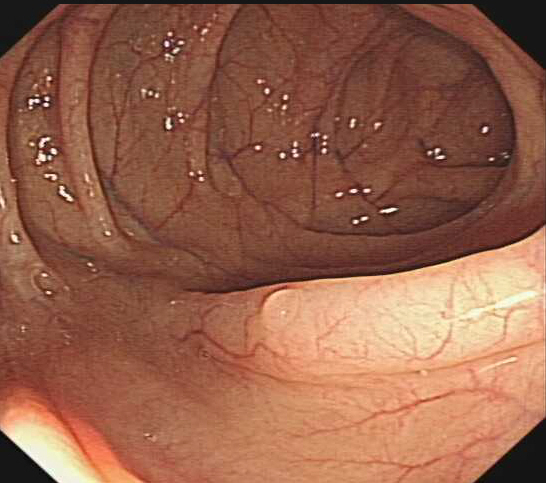others: (258, 285, 304, 336)
